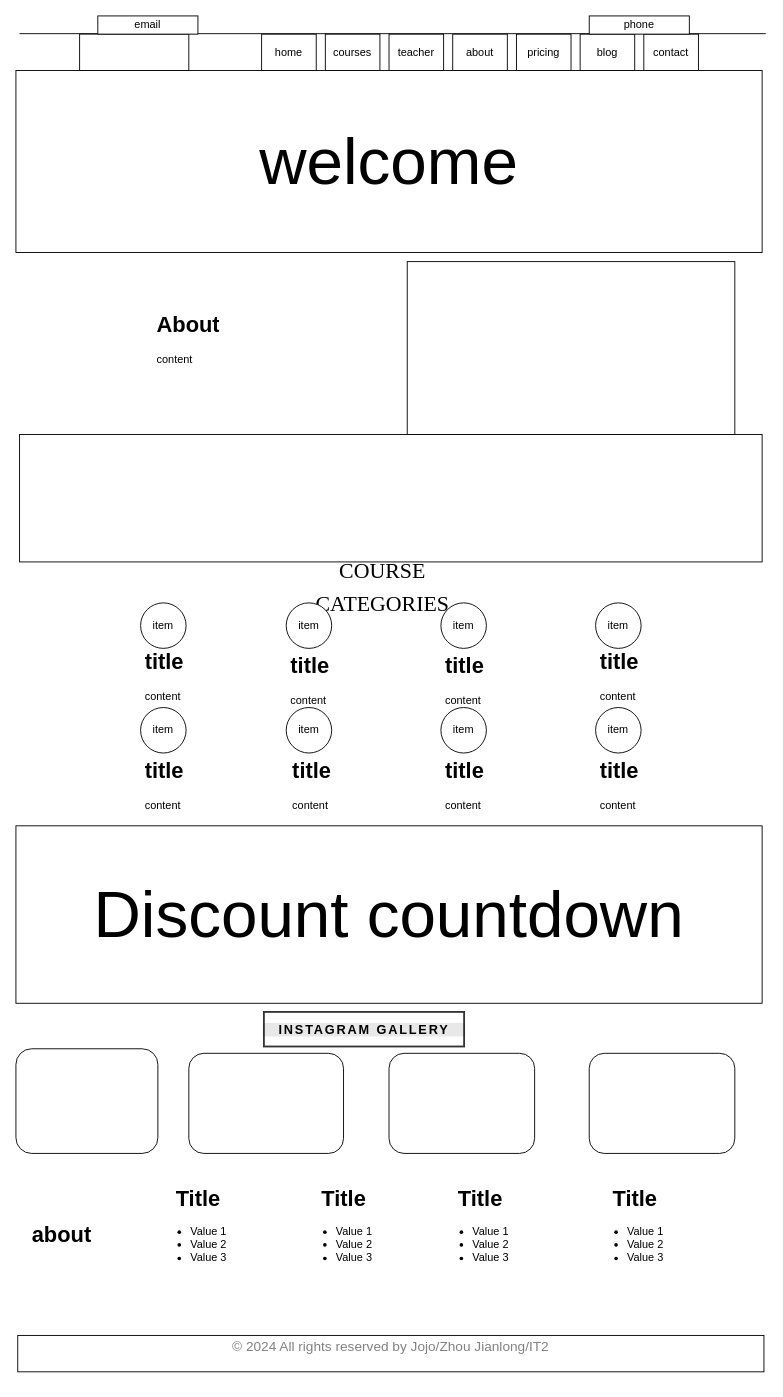
Image size: 783x1397. Some labels were removed from this diagram. The centre of each missing label's shape, as x and y in pixels:
data: the point at 390,498
img: the point at 570,348
logo: the point at 134,52
